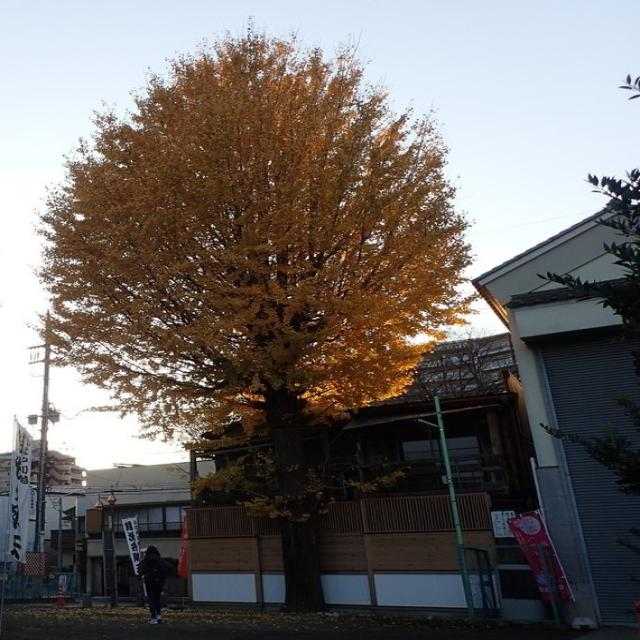ginkgo: (31, 17, 483, 618)
